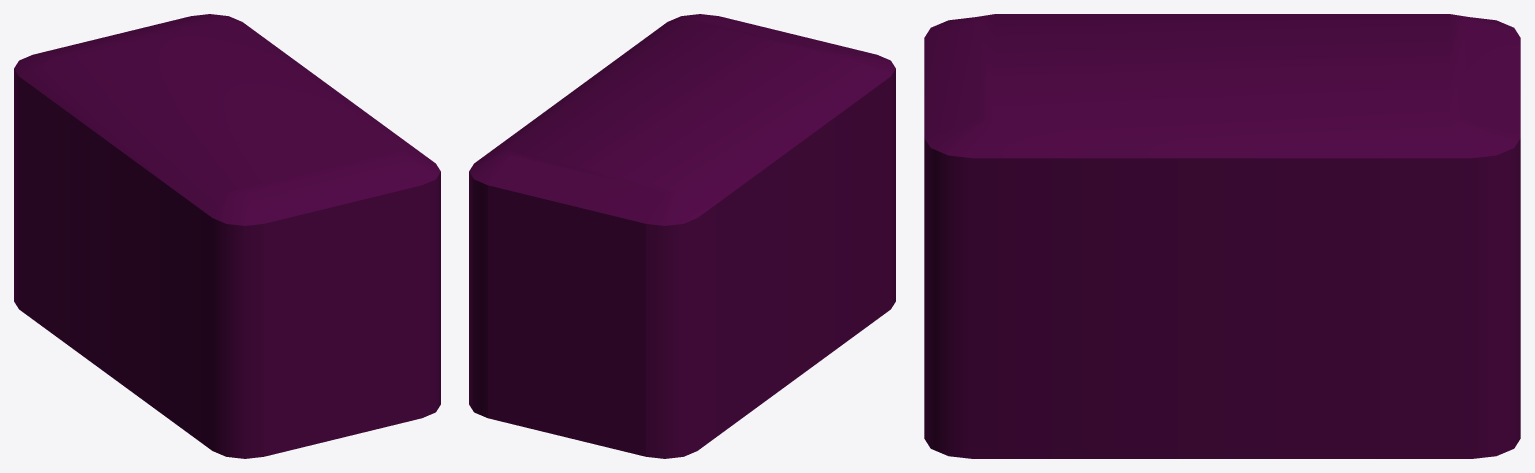
File: Workshop_Cont5.fbx
The picture shows the model from 3 angles, left to right: view 1: azimuth 30°, elevation 25°; view 2: azimuth 150°, elevation 25°; view 3: azimuth 270°, elevation 25°; orthographic projection. The views are drawn at different scales.
Visible parts, largest first — view 1: Workshop_Cont5; view 2: Workshop_Cont5; view 3: Workshop_Cont5.
Part boxes in pixels (x1,y1,x2,y2): Workshop_Cont5: (14, 14, 440, 458); Workshop_Cont5: (469, 14, 895, 458); Workshop_Cont5: (924, 14, 1520, 458).
Bounding box in the file's own units: 34.32 × 36.29 × 61.5.
